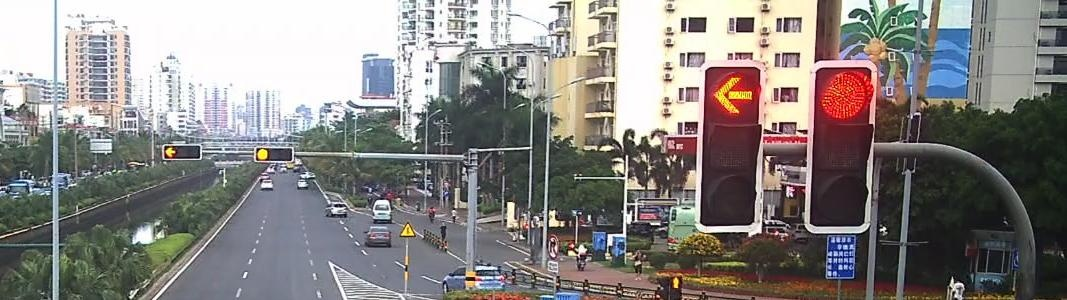red: (821, 69, 875, 123), (255, 145, 271, 162)
redleft: (710, 72, 756, 117), (164, 147, 177, 159)
redpeople: (667, 277, 685, 291)
